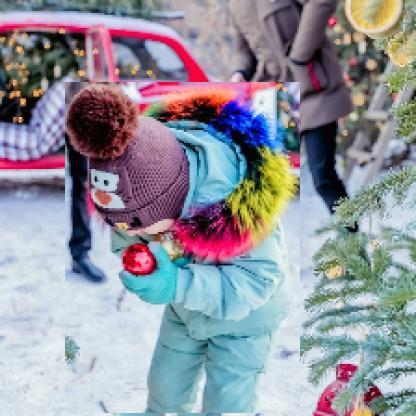child: (66, 83, 302, 415)
